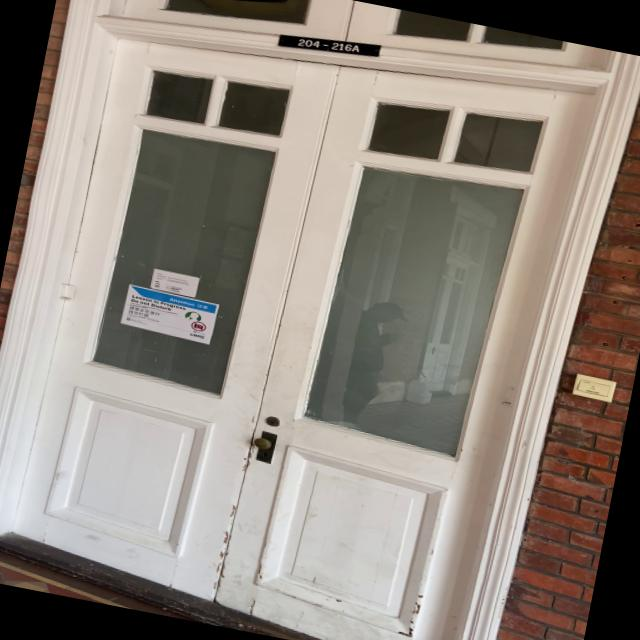room204: (280, 26, 382, 68)
